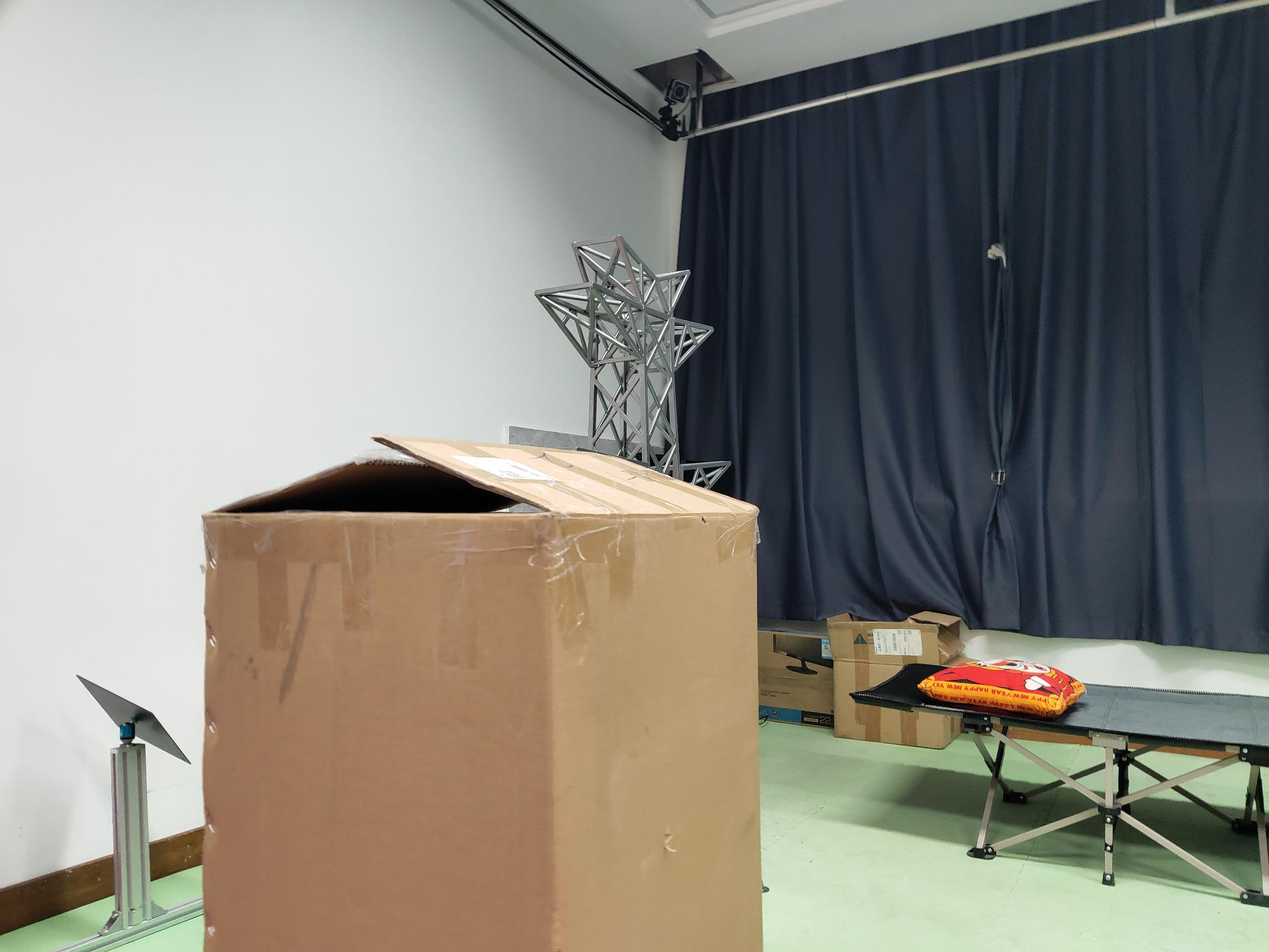tower: (537, 237, 734, 468)
